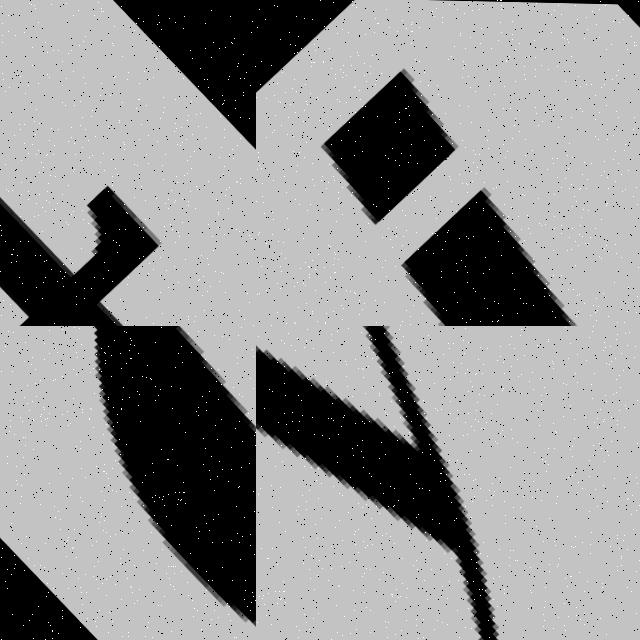I: (258, 66, 640, 326)
O: (88, 326, 256, 632)
Y: (256, 326, 640, 640)
